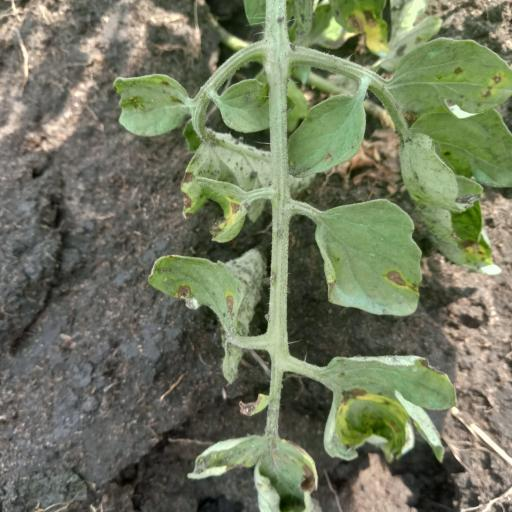Tomato_Brown_Spots: (388, 37, 512, 268), (314, 348, 458, 468), (150, 250, 261, 384), (316, 196, 426, 318), (181, 135, 281, 245), (112, 67, 202, 137)
